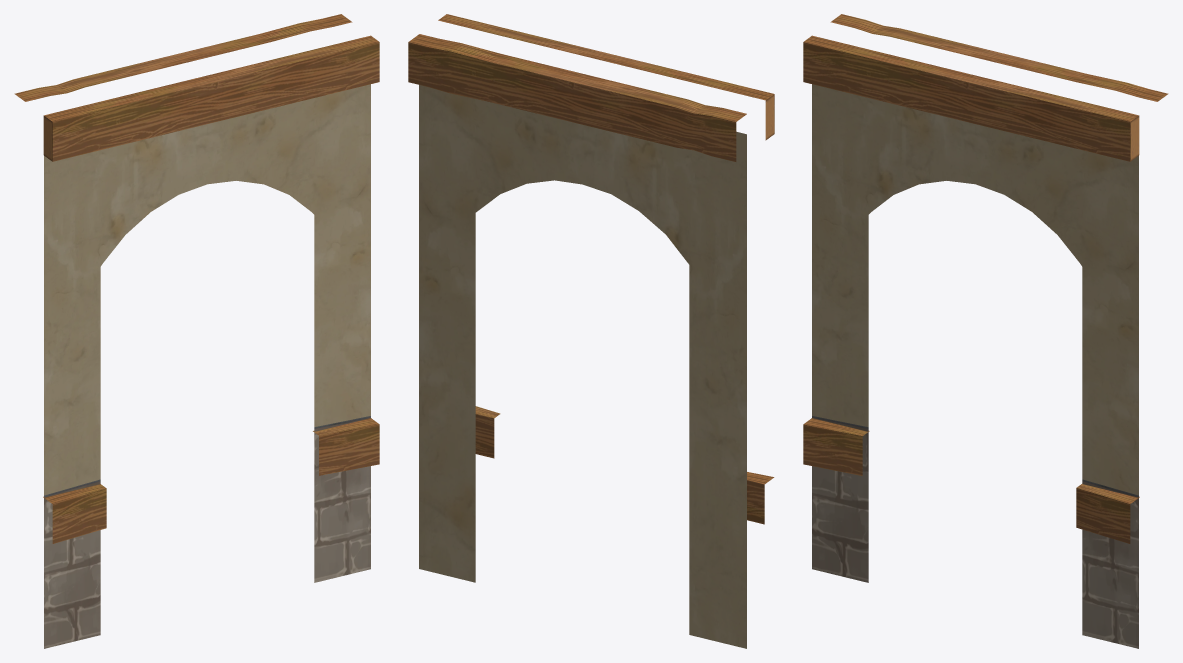
File: wall-plaster-door-round.glb
3 renders of one model, left to right at view 1: azimuth 30°, elevation 25°; view 2: azimuth 150°, elevation 25°; view 3: azimuth 330°, elevation 25°, orthographic.
Parts seen in each view (by area): view 1: Wall_Plaster_Door_Round; view 2: Wall_Plaster_Door_Round; view 3: Wall_Plaster_Door_Round.
Part boxes in pixels (left/top/right/bottom): Wall_Plaster_Door_Round: left=14, top=14, right=379, bottom=648; Wall_Plaster_Door_Round: left=408, top=14, right=774, bottom=648; Wall_Plaster_Door_Round: left=803, top=14, right=1168, bottom=648.
Size of the model in its own units: 2 by 3.12 by 0.4065.
Materials: 3 (3 with a texture image).
